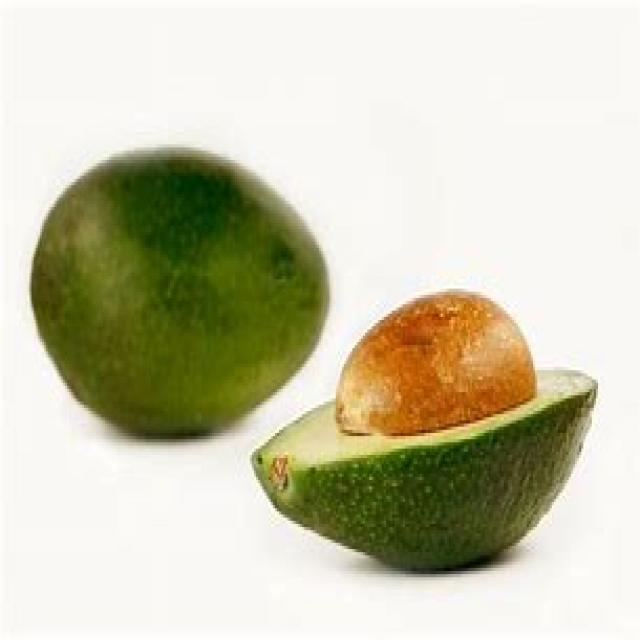avocado: (245, 286, 590, 569), (17, 151, 332, 449)
